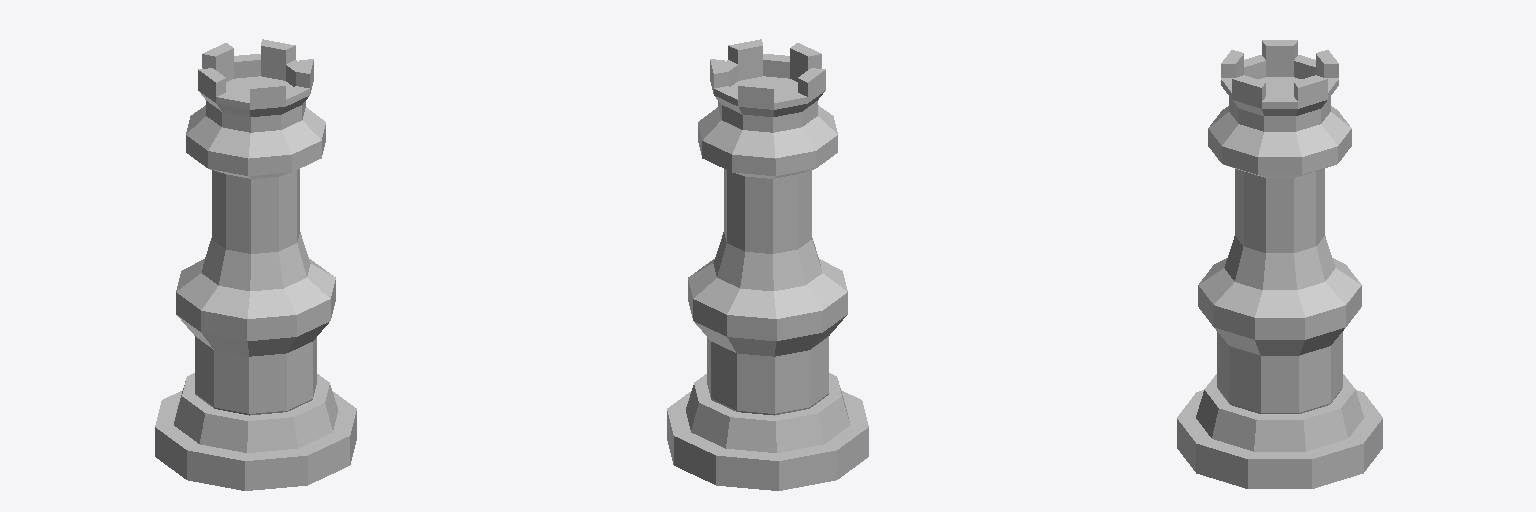
The model's file is queen.obj.
The picture shows the model from 3 angles: view 1: azimuth 30°, elevation 25°; view 2: azimuth 150°, elevation 25°; view 3: azimuth 270°, elevation 25°; orthographic projection.
Size of the model in its own units: 1.04 by 2.24 by 1.09.